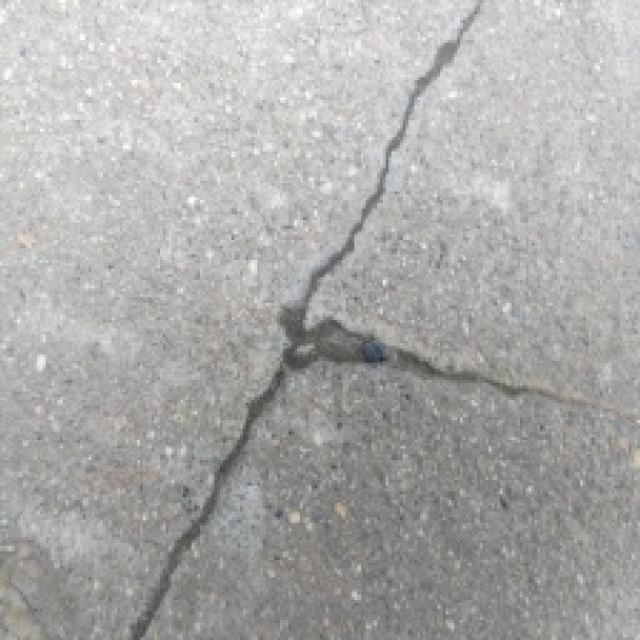crack: (122, 0, 564, 638)
